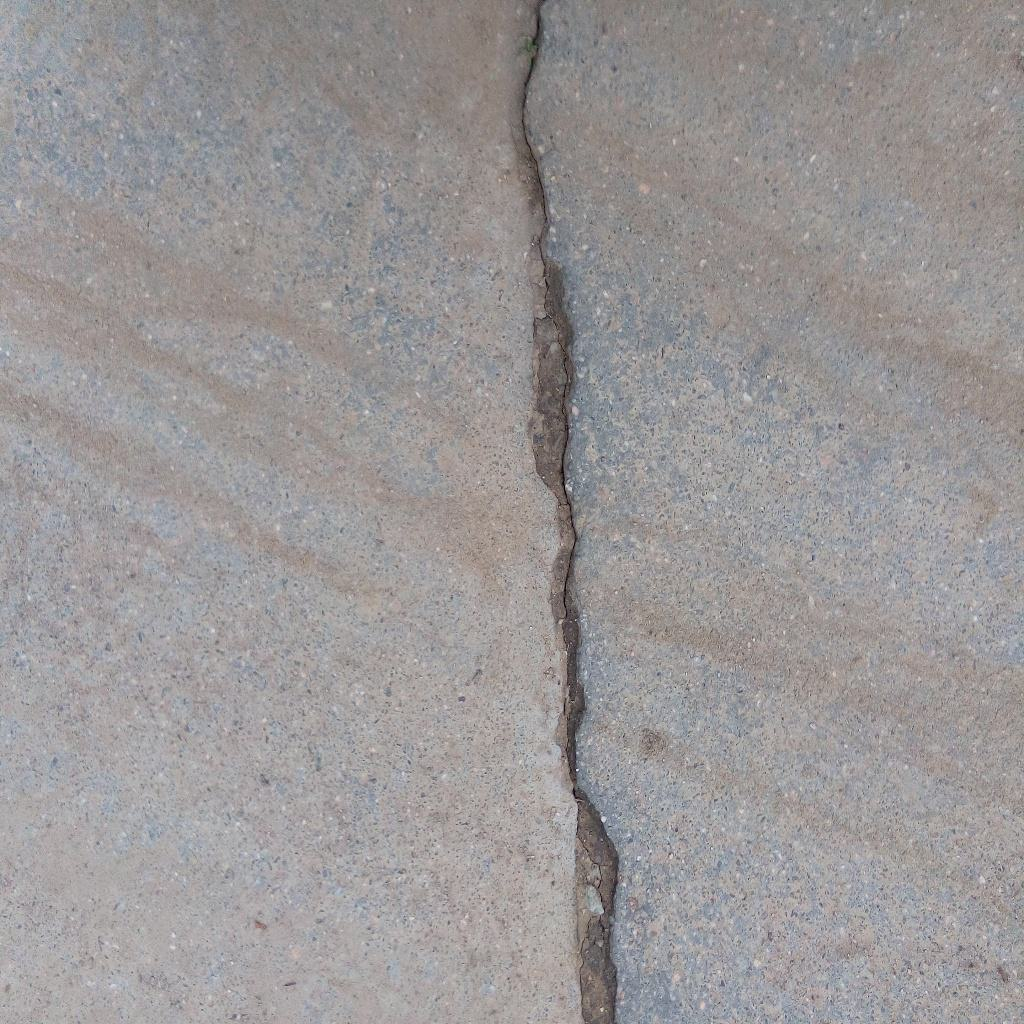Crack: (518, 1, 622, 1024)
